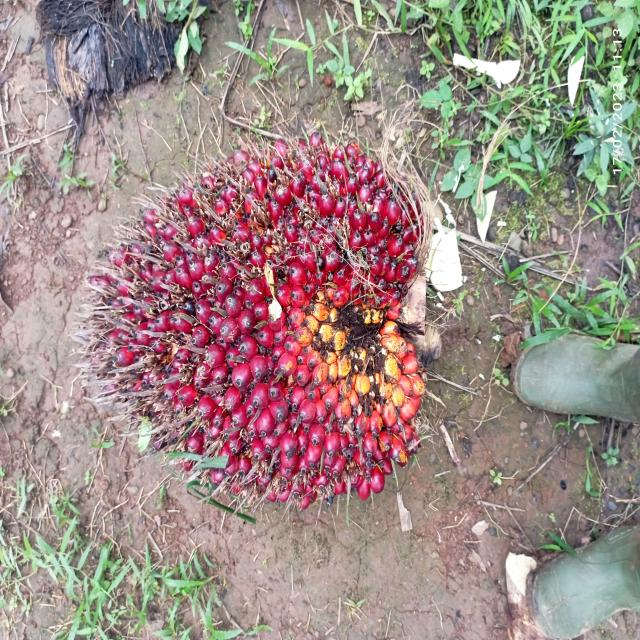fraksi 3: (77, 130, 468, 523)
